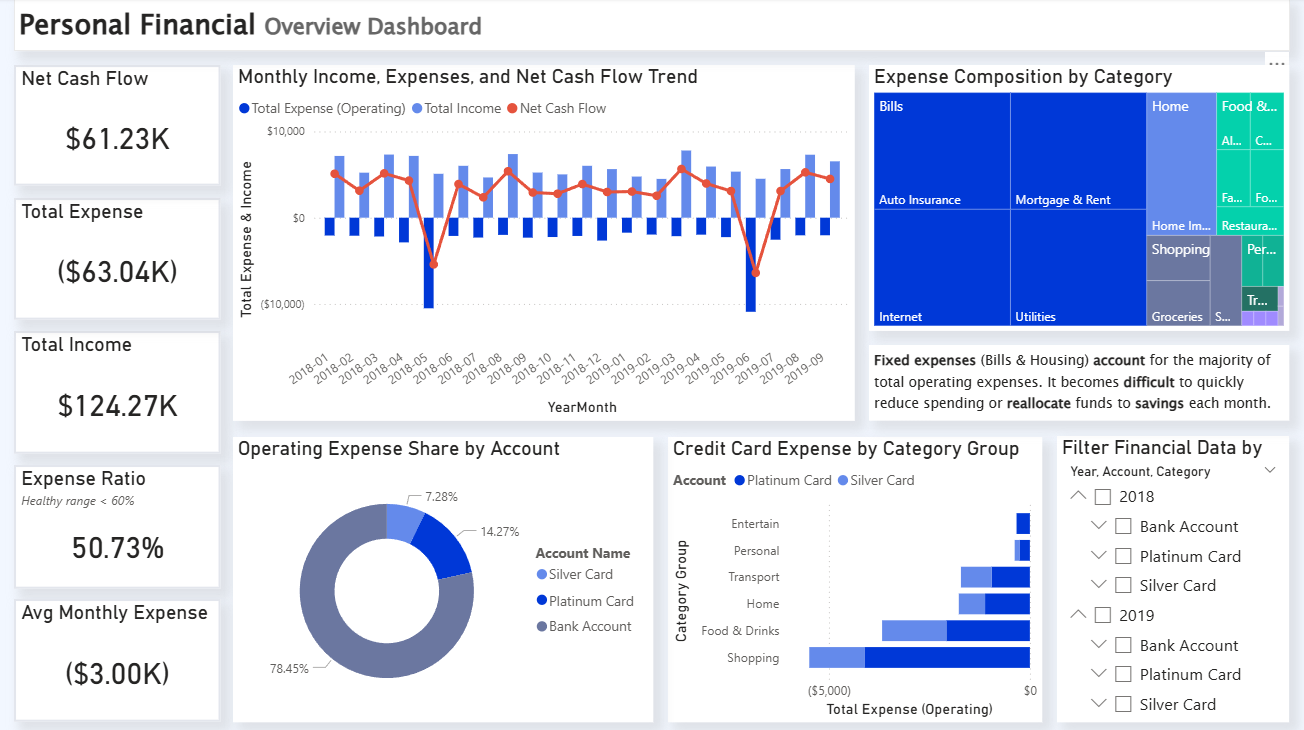

Layout of this report page (visuals, bound fields, positions):
{"tool":"powerbi","page":{"name":"Page 1","canvas":[1280,720],"ordinal":0},"visuals":[{"type":"card","title":"Total Income","fields":{"Values":["Sheet1.Total Income"]},"box":[15.6,325.6,202.4,120.3],"z":0},{"type":"card","title":"Total Expense","fields":{"Values":["Sheet1.Total Expense (Operating)"]},"box":[16,196,202,119],"z":1000},{"type":"card","title":"Net Cash Flow","fields":{"Values":["Sheet1.Net Cash Flow"]},"box":[15.6,65.5,202.4,118.3],"z":2000},{"type":"card","title":"Expense Ratio","fields":{"Values":["Sheet1.Expense Ratio"]},"box":[16,457,202,121],"z":3000},{"type":"card","title":"Avg Monthly Expense","fields":{"Values":["Sheet1.Avg Monthly Expense"]},"box":[16,588,202,120],"z":4000},{"type":"lineClusteredColumnComboChart","title":"Monthly Income, Expenses, and Net Cash Flow Trend","fields":{"Category":["Sheet1.YearMonth"],"Y":["Sheet1.Total Expense (Operating)","Sheet1.Total Income"],"Y2":["Sheet1.Net Cash Flow"]},"box":[229.8,65.5,608.2,348.1],"z":5000},{"type":"barChart","title":"Credit Card Expense by Category Group","fields":{"Category":["Sheet1.Category Group"],"Y":["Sheet1.Total Expense (Operating)"],"Series":["Sheet1.Account Name"]},"box":[655.1,429.4,365.9,279.2],"z":6000},{"type":"slicer","title":"Filter Financial Data by","fields":{"Values":["Sheet1.Year","Sheet1.Account Name","Sheet1.Category Group"]},"box":[1036,428,227,280],"z":7000},{"type":"textbox","box":[16,1,1247,51],"z":8000},{"type":"treemap","title":"Expense Composition by Category","fields":{"Values":["Sheet1.Total Expense (Abs)"],"Group":["Sheet1.Category Group"],"Details":["Sheet1.Category"]},"box":[851.7,65.5,410.7,260.1],"z":9000},{"type":"donutChart","title":"Operating Expense Share by Account","fields":{"Category":["Sheet1.Account Name"],"Y":["Sheet1.Total Expense (Operating)"]},"box":[230,429.2,410.8,279.2],"z":10000},{"type":"textbox","box":[851.7,339.3,410.7,74.3],"z":11000}]}

Visuals, with their boxes in screenshot pixels (x1, y1, x2, y2), scaled from the page's 1280x720 canvas onto the 1304x730 screenshot:
"Total Income" card: 16/330/222/452
"Total Expense" card: 16/199/222/319
"Net Cash Flow" card: 16/66/222/186
"Expense Ratio" card: 16/463/222/586
"Avg Monthly Expense" card: 16/596/222/718
"Monthly Income, Expenses, and Net Cash Flow Trend" lineClusteredColumnComboChart: 234/66/854/419
"Credit Card Expense by Category Group" barChart: 667/435/1040/718
"Filter Financial Data by" slicer: 1055/434/1287/718
textbox: 16/1/1287/53
"Expense Composition by Category" treemap: 868/66/1286/330
"Operating Expense Share by Account" donutChart: 234/435/653/718
textbox: 868/344/1286/419
